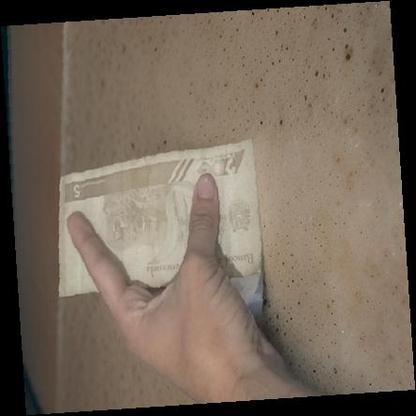five-back-vef: (58, 138, 262, 298)
